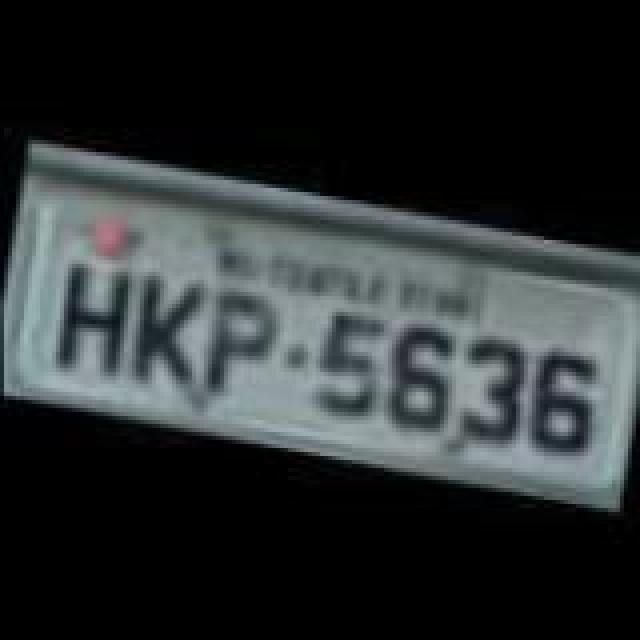3: (446, 332, 530, 444)
5: (306, 300, 394, 420)
6: (376, 314, 460, 434), (516, 346, 604, 458)
H: (44, 258, 136, 386)
K: (118, 274, 206, 398)
P: (192, 284, 284, 404)
